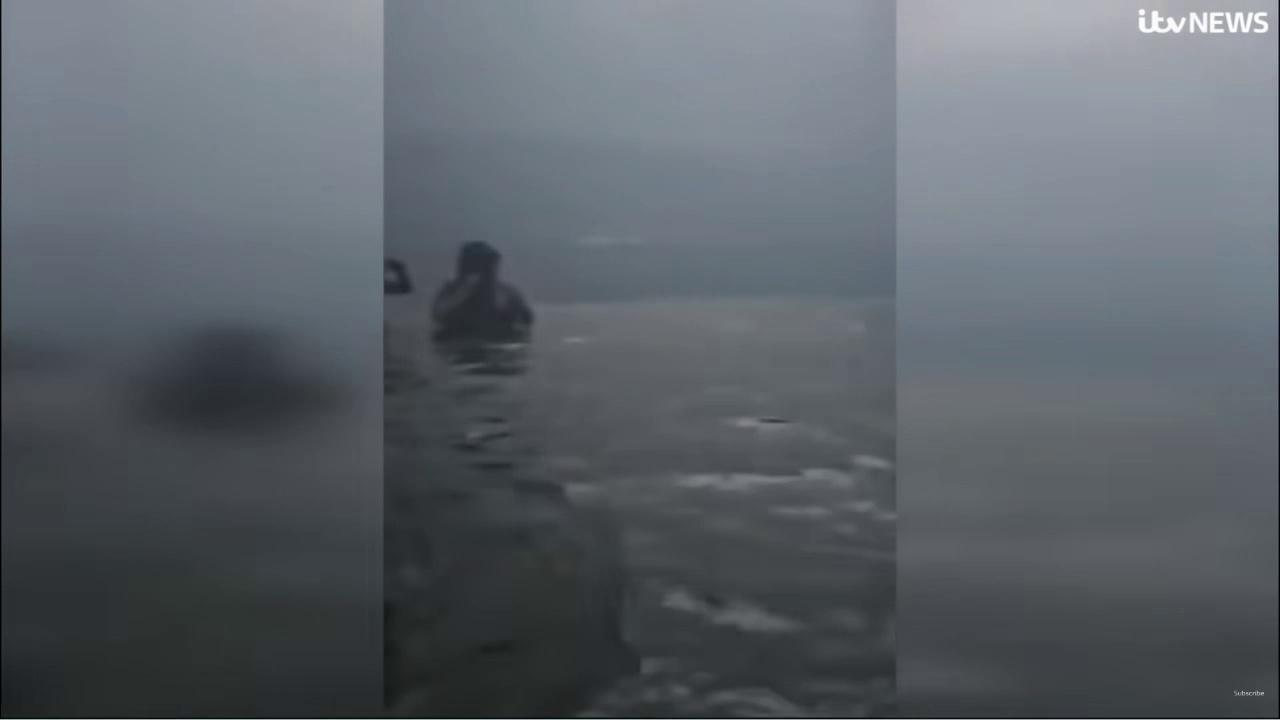smoke: (384, 0, 897, 296)
